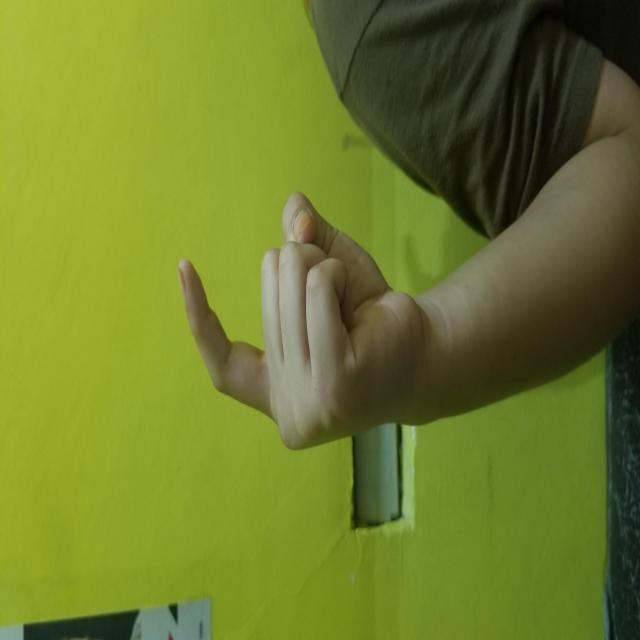X: (190, 178, 449, 425)
